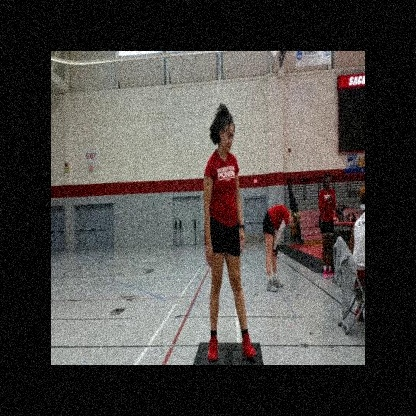lateral_flexion_normal: (202, 104, 257, 363)
stance_width_broad: (202, 146, 256, 362)
